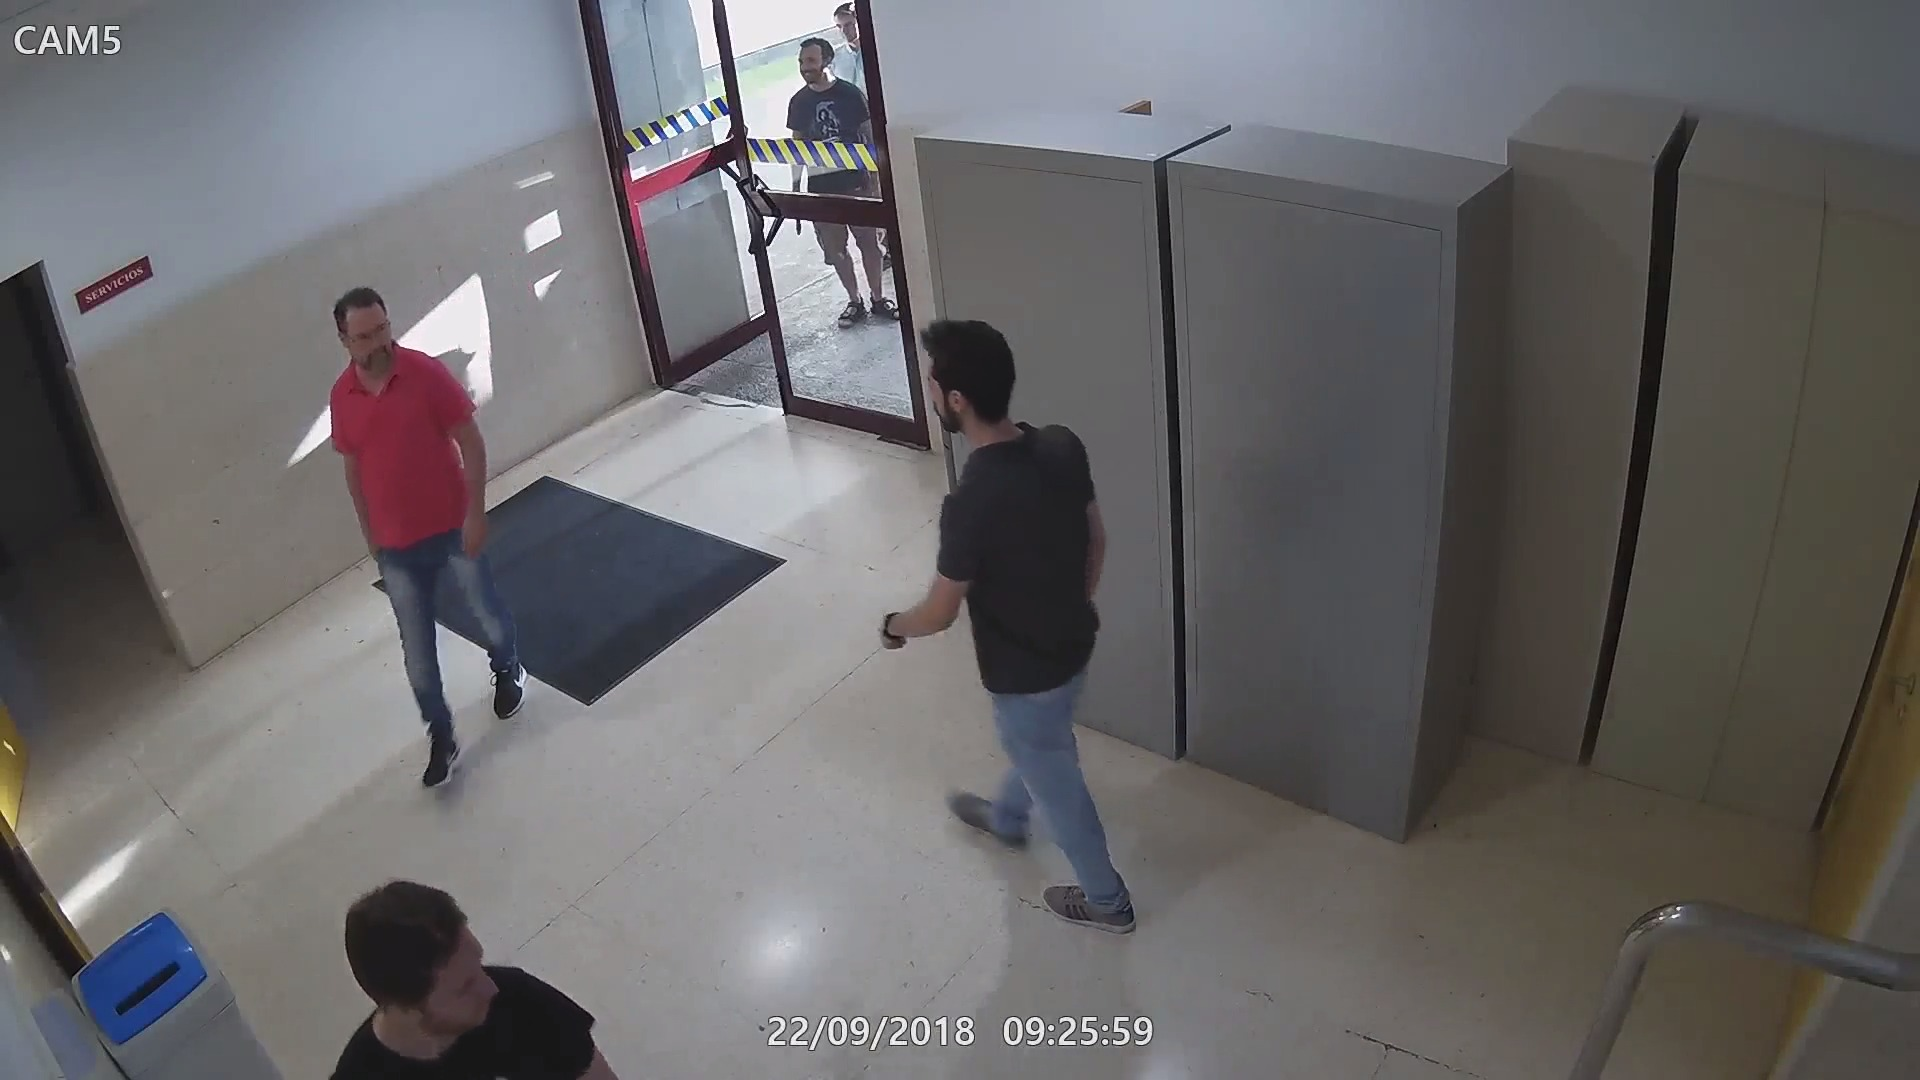Handgun: (785, 216, 806, 237)
